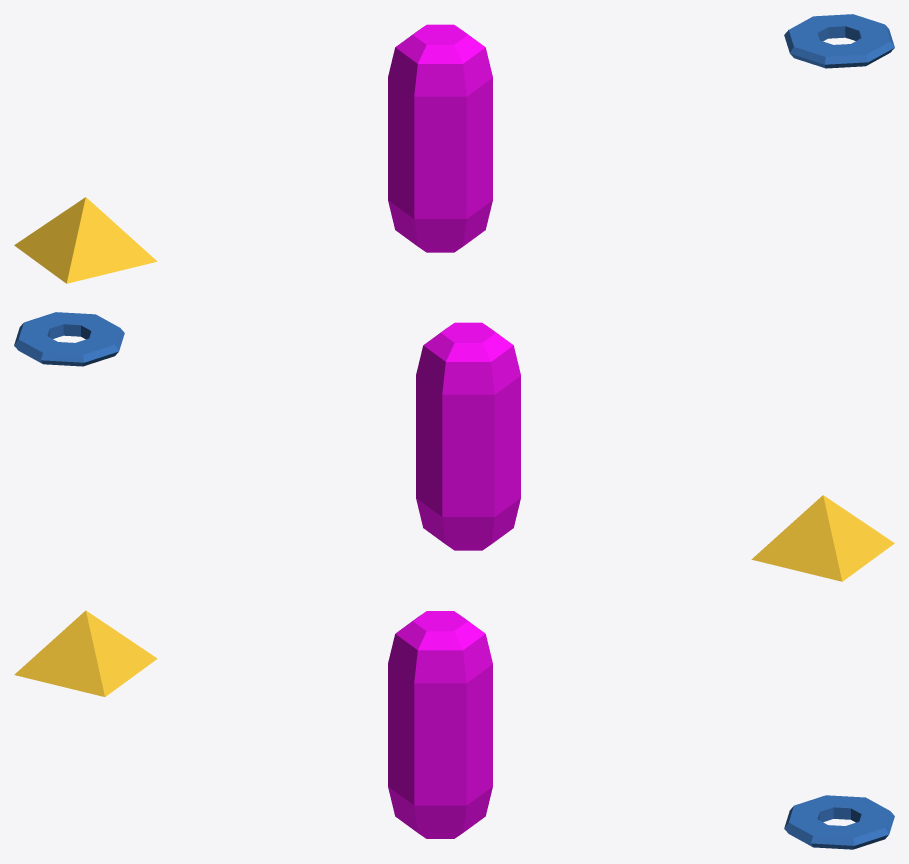
File: shapes.fbx
3 renders of one model, top to bottom at view 1: azimuth 30°, elevation 25°; view 2: azimuth 150°, elevation 25°; view 3: azimuth 330°, elevation 25°, orthographic.
Parts seen in each view (by area): view 1: Cylinder, Cube, Cylinder.001; view 2: Cylinder, Cube, Cylinder.001; view 3: Cylinder, Cube, Cylinder.001.
Boxes of the visible parts, x1=… form: Cylinder: x1=388, y1=24, x2=492, y2=252; Cube: x1=14, y1=197, x2=157, y2=283; Cylinder.001: x1=784, y1=14, x2=894, y2=68; Cylinder: x1=416, y1=322, x2=520, y2=550; Cube: x1=751, y1=495, x2=894, y2=581; Cylinder.001: x1=14, y1=312, x2=124, y2=366; Cylinder: x1=388, y1=611, x2=492, y2=838; Cube: x1=14, y1=610, x2=157, y2=696; Cylinder.001: x1=784, y1=795, x2=894, y2=849.
Bounding box in the file's own units: 1863 × 436 × 218.
1 material, 1 textured.
